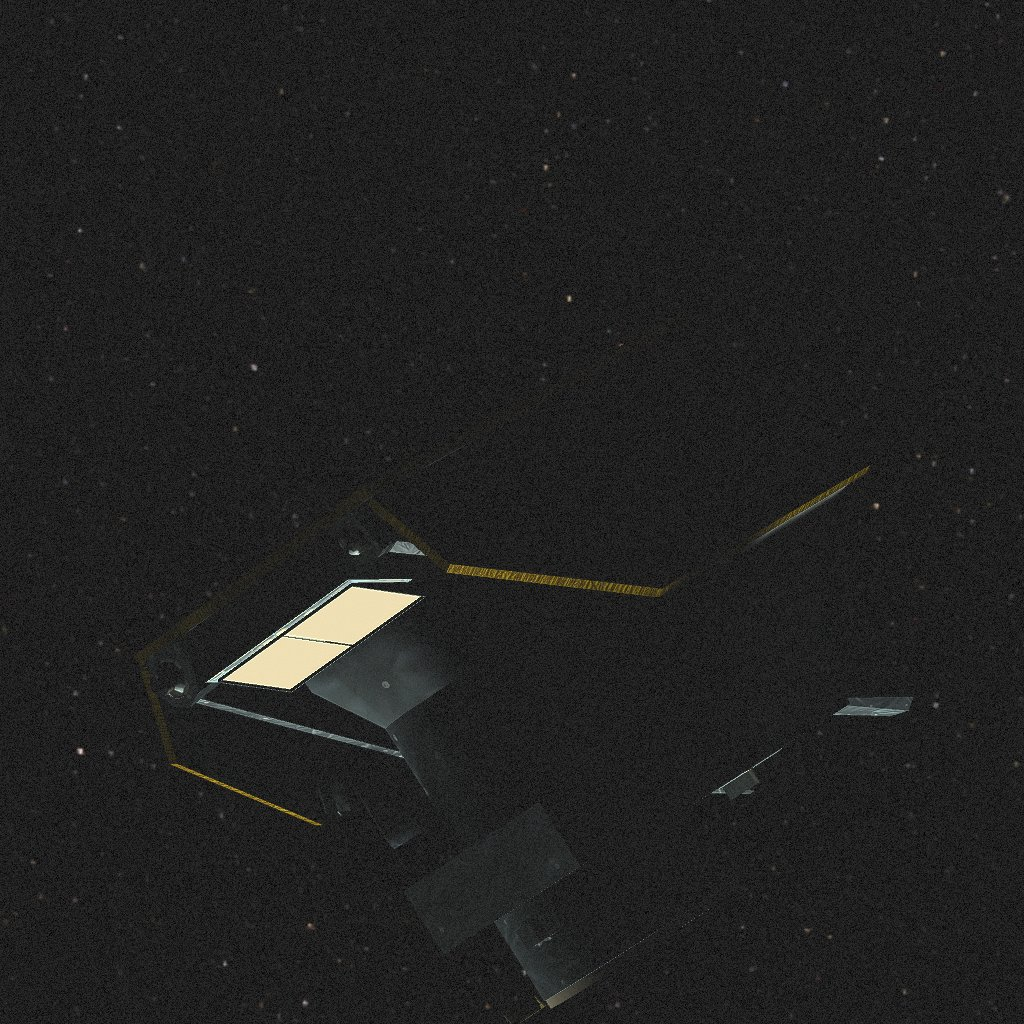cheops: (134, 308, 913, 1024)
